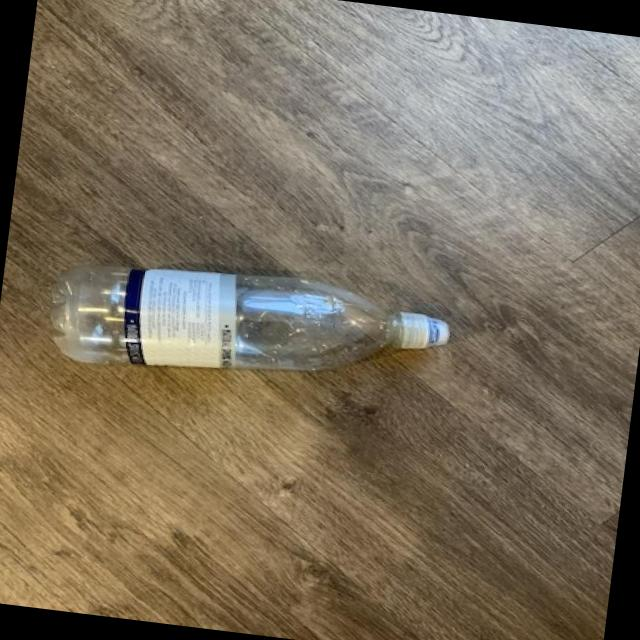plastic_bottle: (45, 248, 458, 406)
